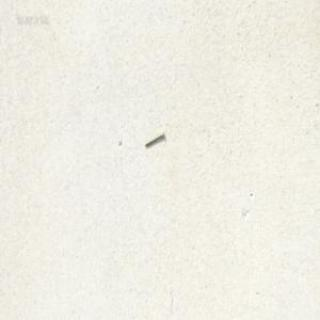Bolttrack_idkeyframe: (143, 130, 164, 147)
